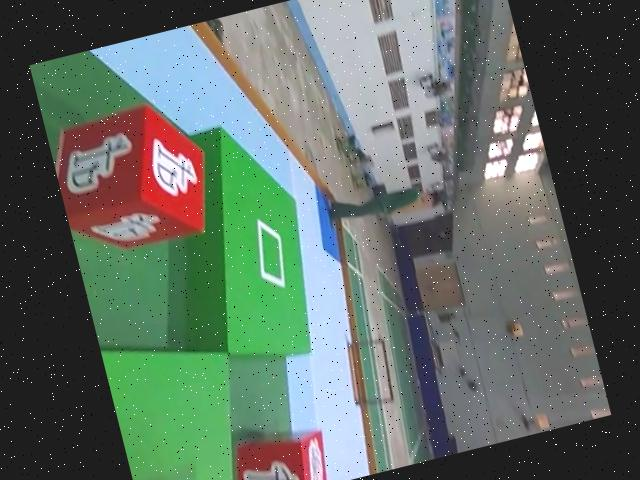R1: (136, 462, 278, 480)
R2 Real: (44, 90, 225, 264)
